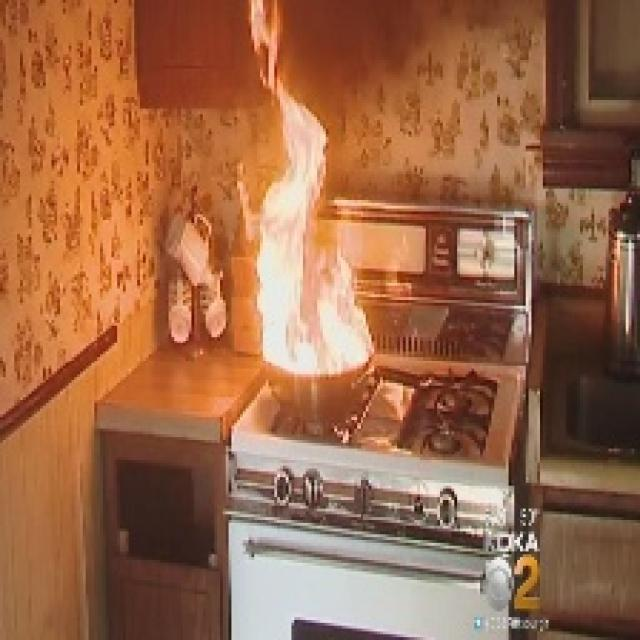Fire: (241, 0, 369, 374)
